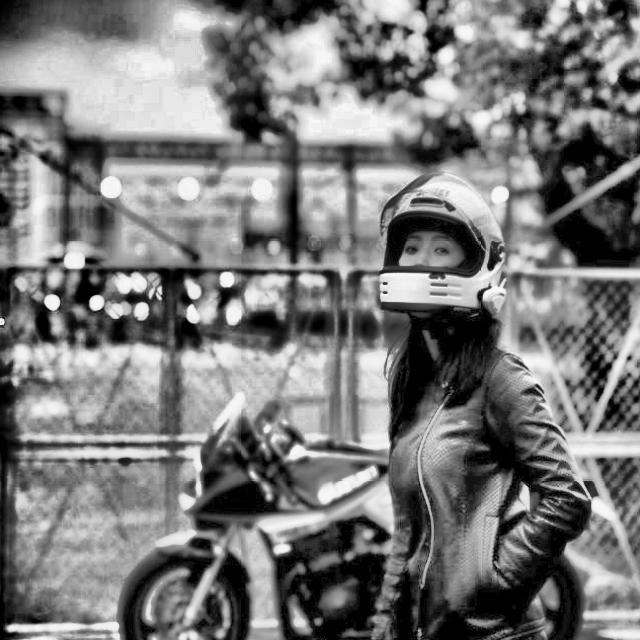Helmet: (373, 166, 511, 322)
